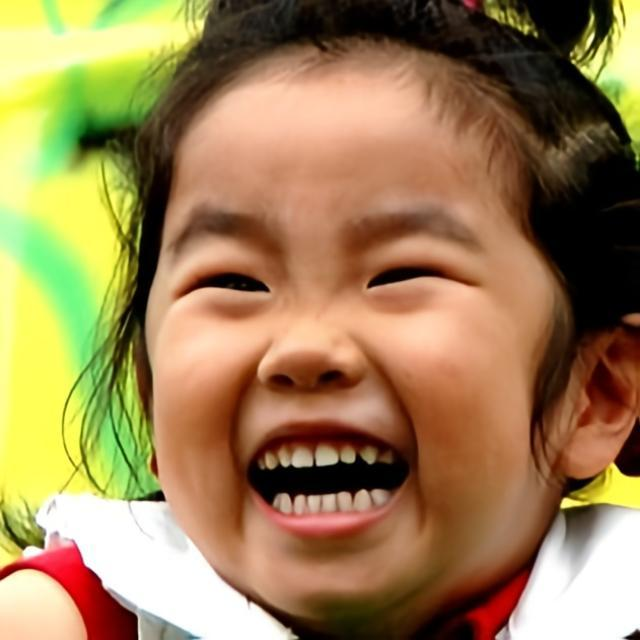happy: (139, 65, 556, 622)
